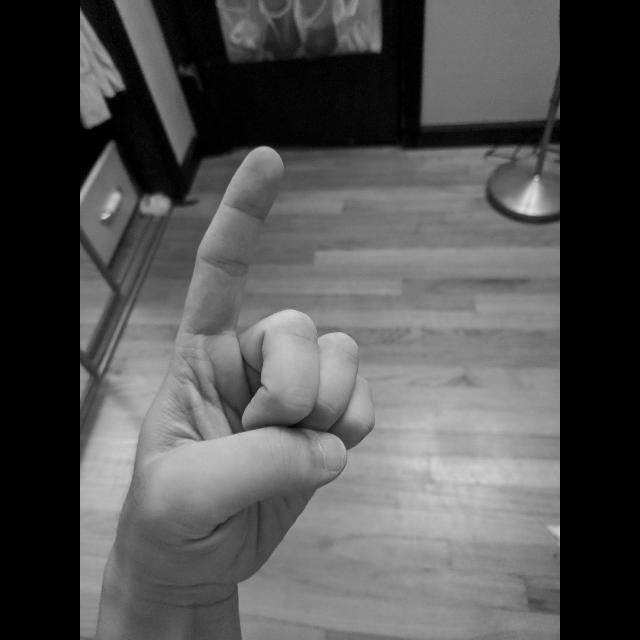D: (105, 142, 382, 592)
